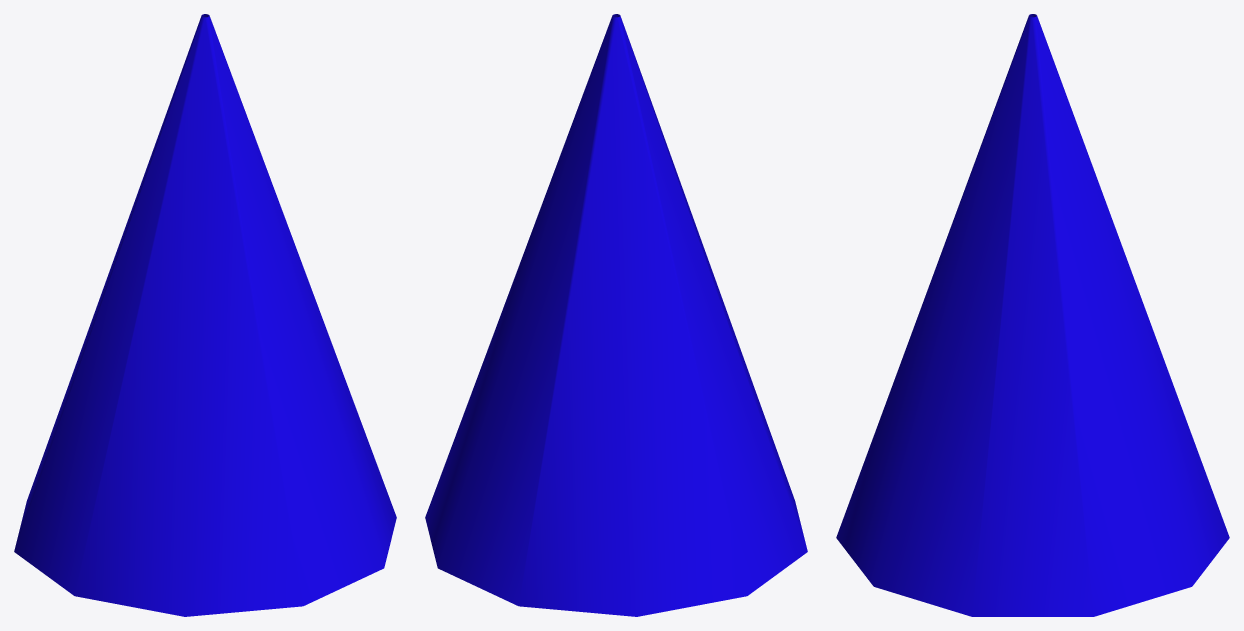
Rendered from Cone2Blue.fbx.
3 views of the same model, side by side, from view 1: azimuth 30°, elevation 25°; view 2: azimuth 150°, elevation 25°; view 3: azimuth 270°, elevation 25° (orthographic).
Visible parts, largest first — view 1: SM_Light_Cone_02; view 2: SM_Light_Cone_02; view 3: SM_Light_Cone_02.
Part boxes in pixels (box(x1,y1,x2,y2)): SM_Light_Cone_02: box(14, 14, 396, 616); SM_Light_Cone_02: box(425, 14, 807, 616); SM_Light_Cone_02: box(836, 14, 1229, 616).
Size of the model in its own units: 1274 by 1960 by 1339.
